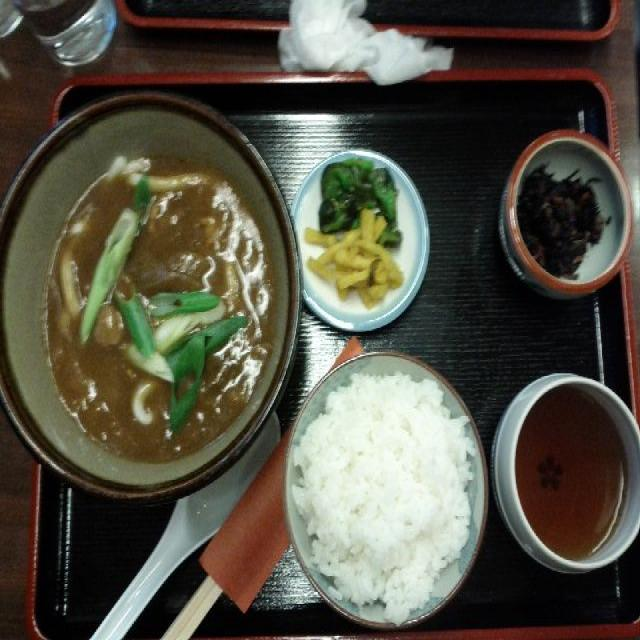Rice: (295, 362, 483, 618)
